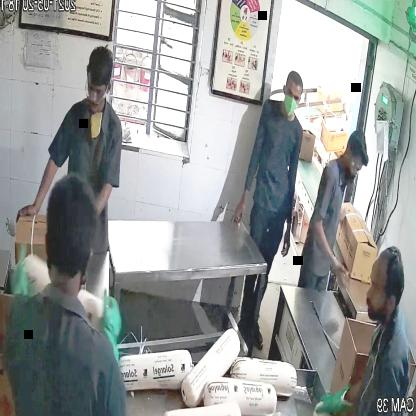goggles: (84, 76, 112, 104)
no_goggles: (282, 87, 306, 102)
